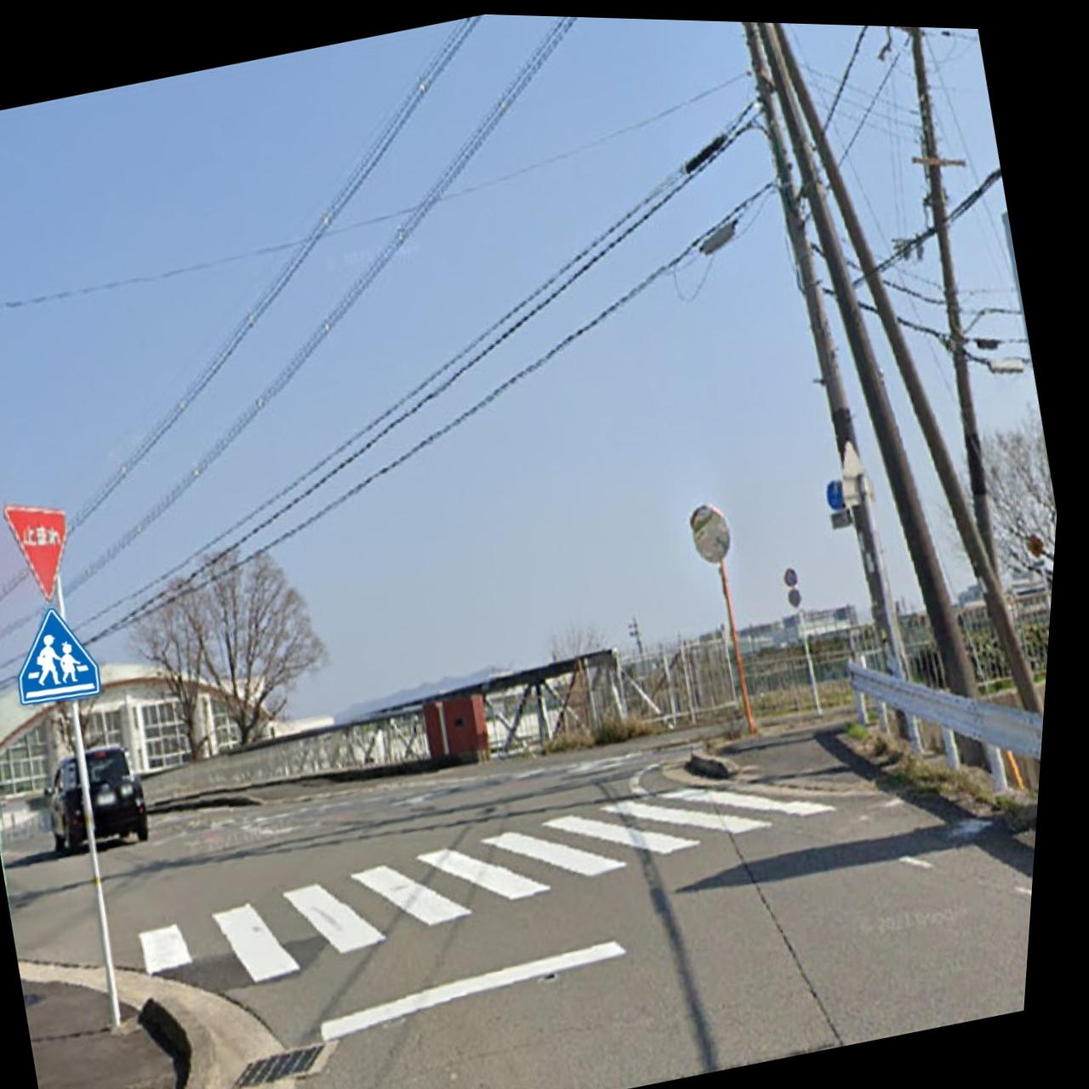cone: (7, 332, 27, 1037)
